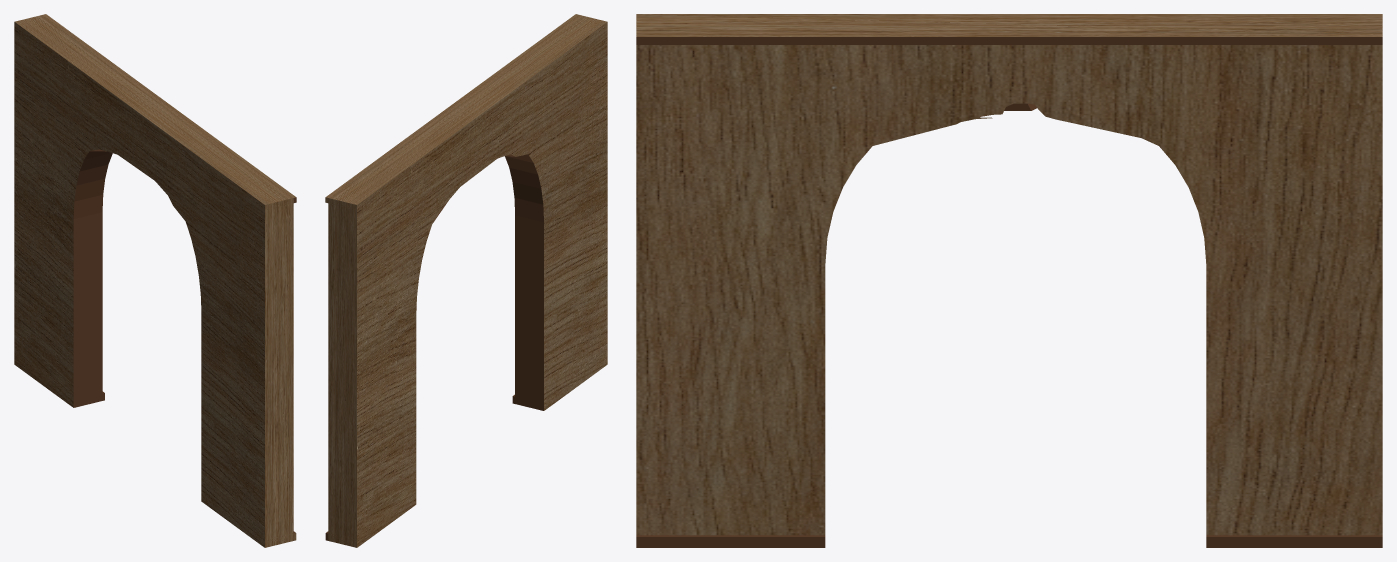
Rendered from Arch_WallF_Archway.fbx.
3 views of the same model, side by side, from view 1: azimuth 30°, elevation 25°; view 2: azimuth 150°, elevation 25°; view 3: azimuth 270°, elevation 25° (orthographic). The views are drawn at different scales.
Visible parts, largest first — view 1: WallF-Archway; view 2: WallF-Archway; view 3: WallF-Archway.
Boxes of the visible parts, box(x1,y1,x2,y2) form: WallF-Archway: box(14, 14, 296, 547); WallF-Archway: box(325, 14, 607, 547); WallF-Archway: box(636, 14, 1382, 547).
Bounding box in the file's own units: 32.82 × 340 × 450.
